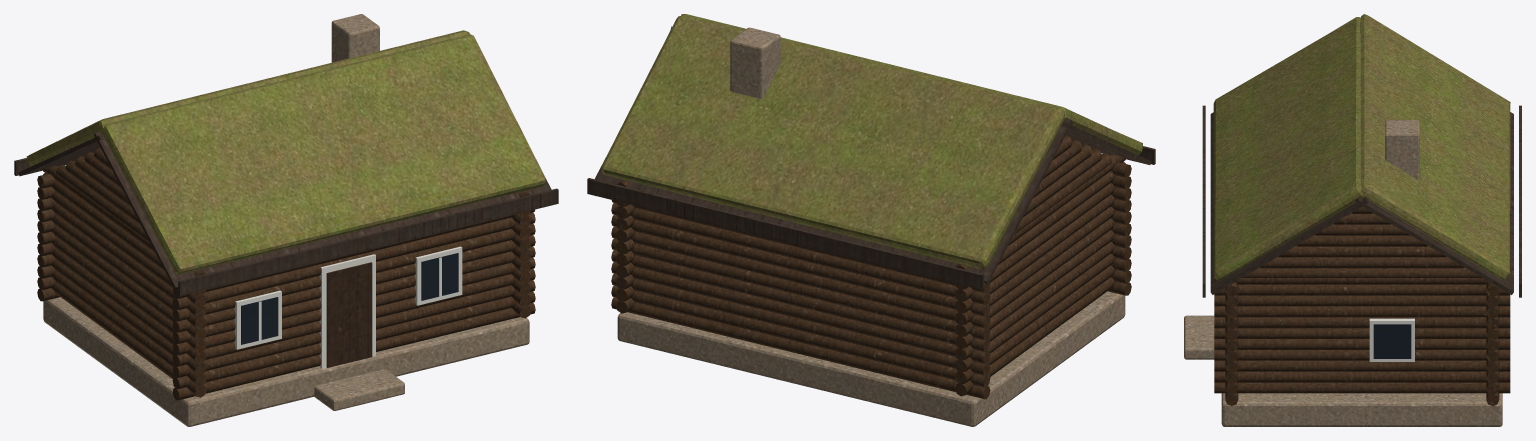
File: cabin.glb
3 renders of one model, left to right at view 1: azimuth 30°, elevation 25°; view 2: azimuth 150°, elevation 25°; view 3: azimuth 270°, elevation 25°, orthographic. The views are drawn at different scales.
Visible parts, largest first — view 1: cabin; view 2: cabin; view 3: cabin.
Boxes of the visible parts, box(x1,y1,x2,y2) form: cabin: box(14, 14, 558, 426); cabin: box(587, 14, 1155, 426); cabin: box(1184, 14, 1521, 426).
Size of the model in its own units: 8.4 by 5.79 by 6.73.
Materials: 1 (1 with a texture image).
